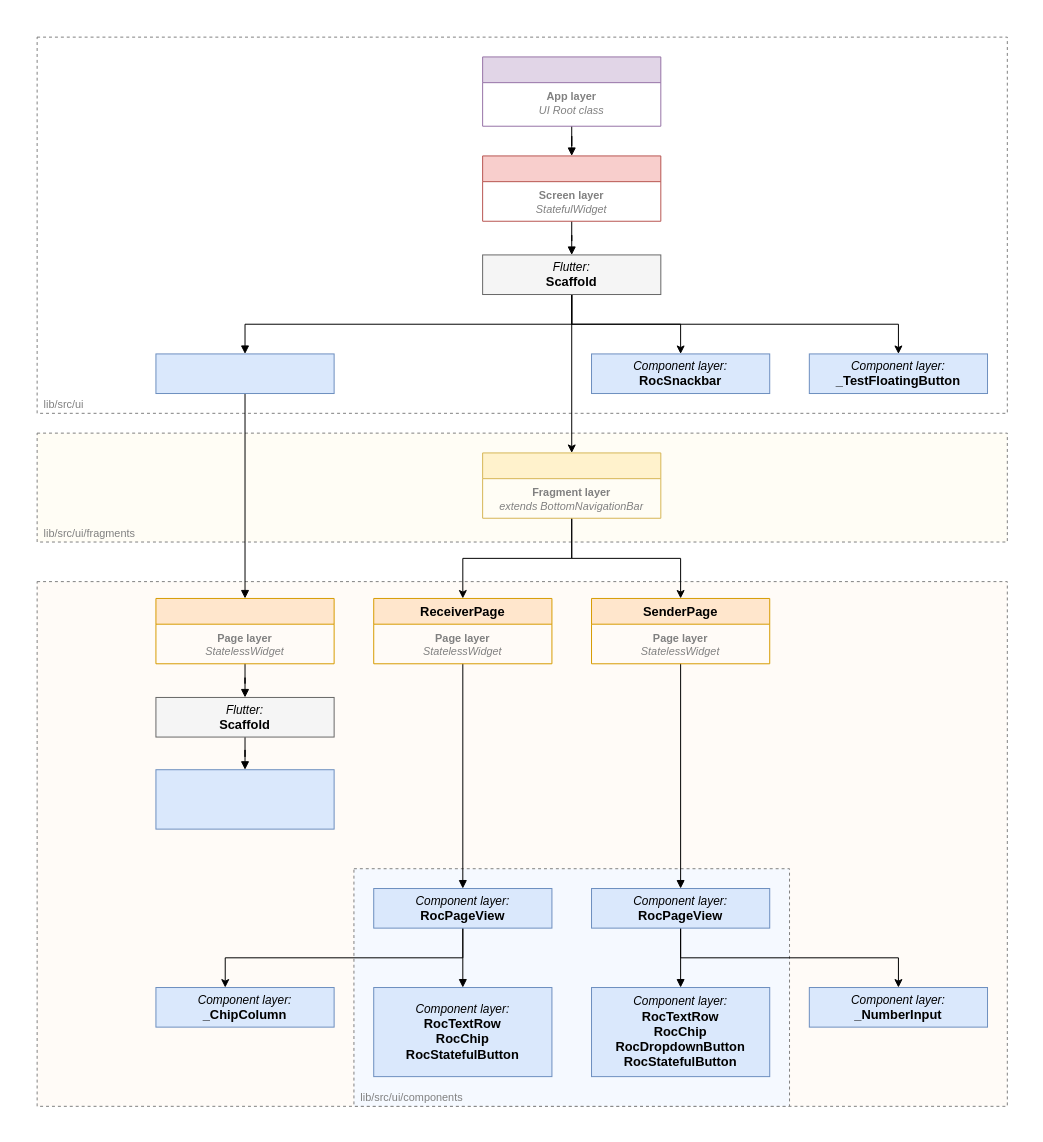
This 1043x1142 diagram has some shape labels left out. Here are the shapes that lost their labels. From the top down, the box of each, then its label:
(482, 56, 661, 126): AppRoot
(482, 155, 661, 221): MainScreen
(155, 353, 334, 394): Component layer: _AppBar
(482, 452, 661, 518): RocBottomNavigationBar
(155, 597, 334, 664): AboutPage
(155, 769, 334, 829): Component layer: _AboutPageButton _AppBar
(36, 581, 1007, 1106): lib/src/ui/pages
